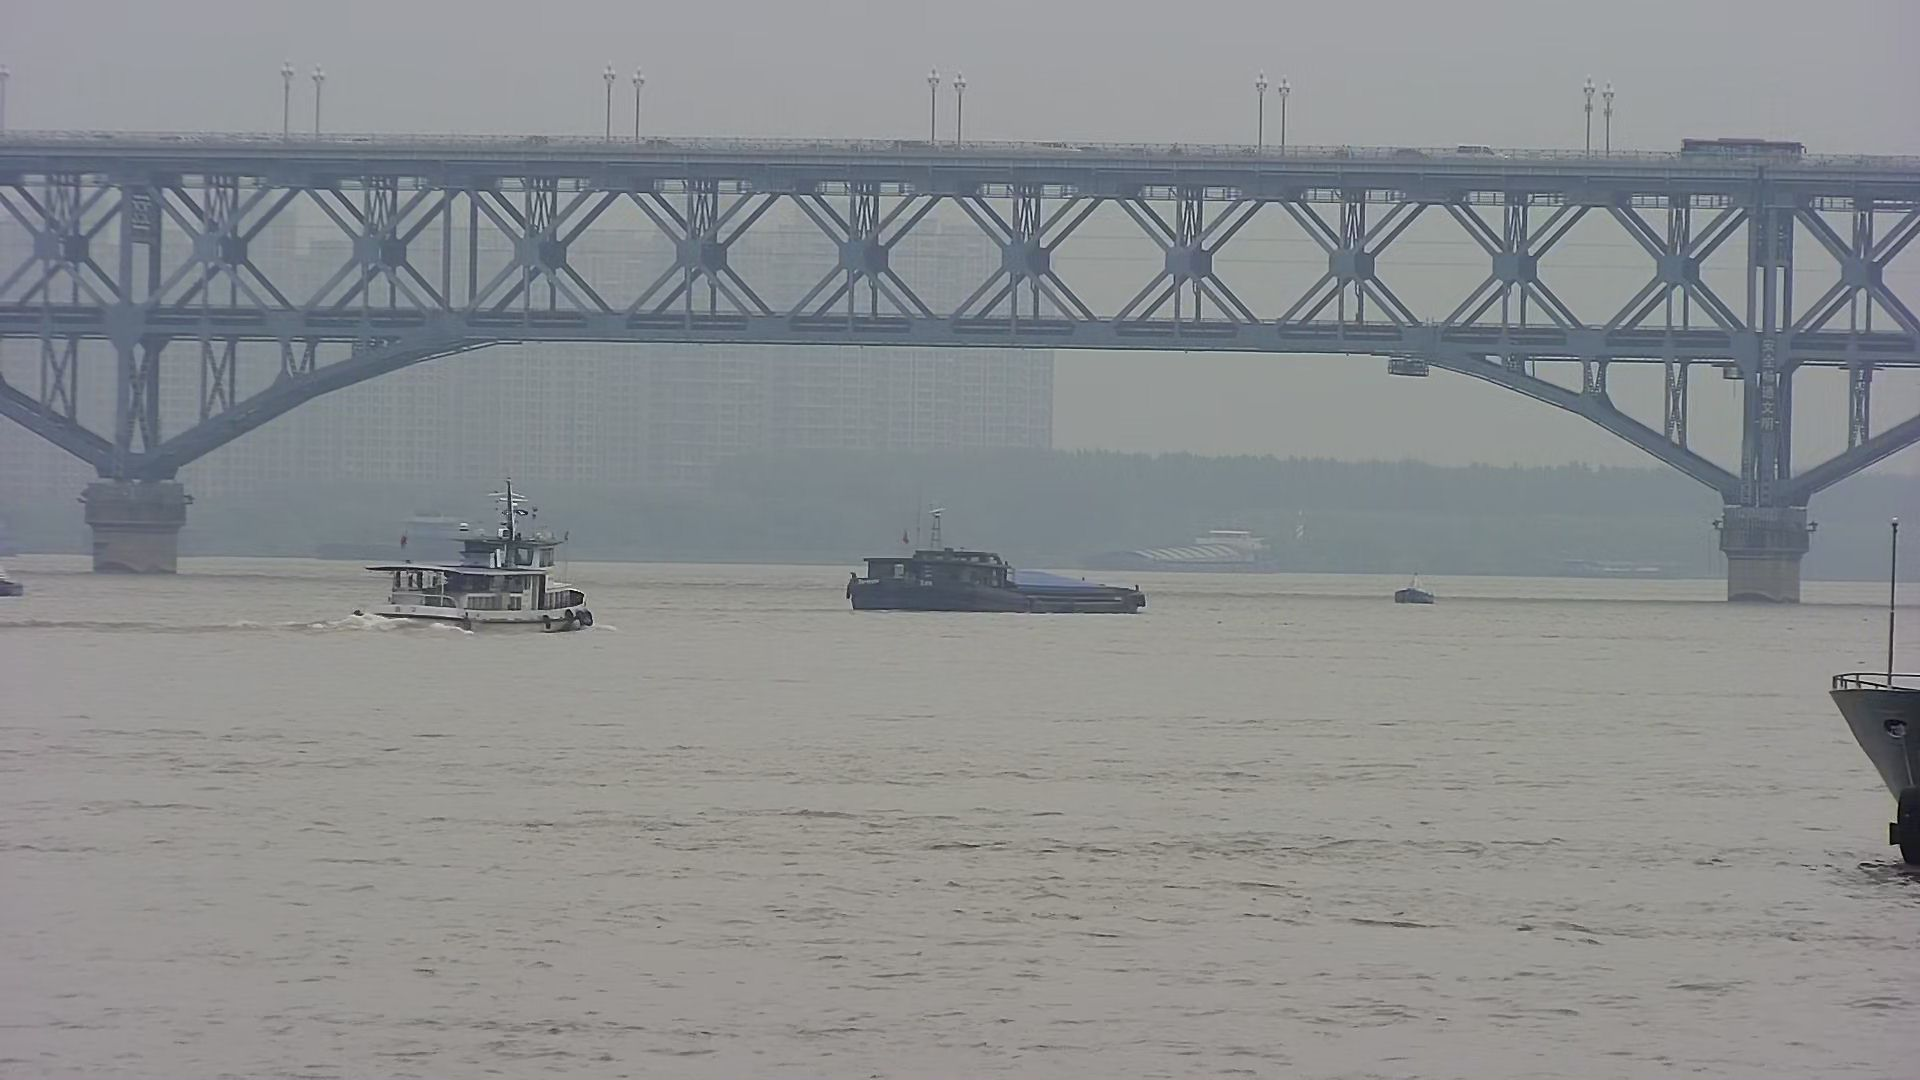boat: (1373, 564, 1451, 615)
bridge: (1, 120, 1908, 604)
ship: (343, 465, 616, 646), (808, 488, 1158, 618)
